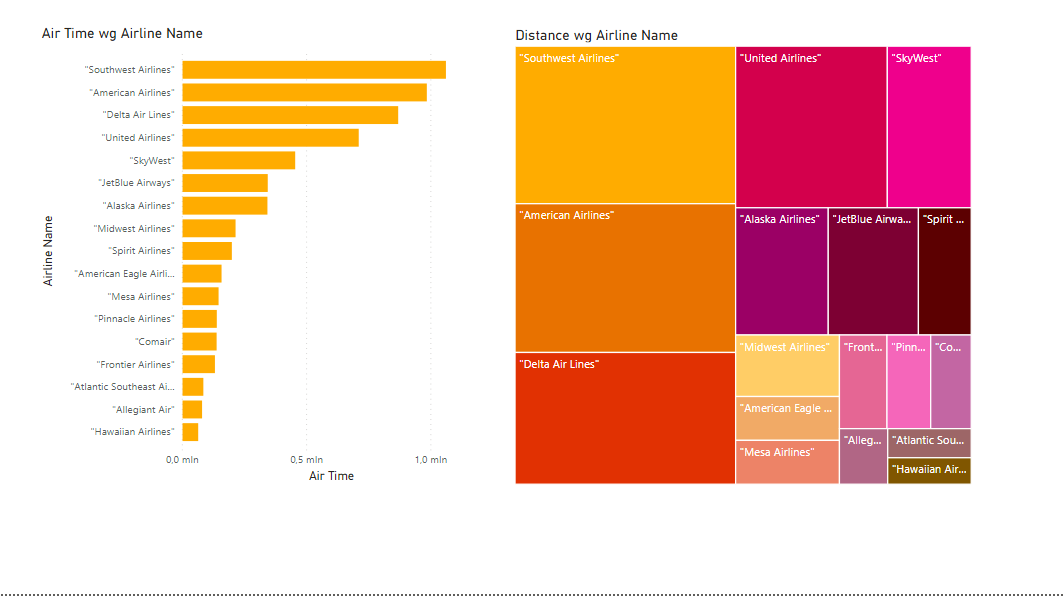

The page's visual inventory and layout, read from the dashboard file:
{"tool":"powerbi","page":{"name":"Strona 4","canvas":[1280,720],"ordinal":3},"visuals":[{"type":"clusteredBarChart","fields":{"Y":["Fact Flight.Air Time"],"Category":["Dim Airline.Airline Name"]},"box":[49.3,46.6,549.6,546.8],"z":0},{"type":"treemap","fields":{"Values":["Fact Flight.Distance"],"Group":["Dim Airline.Airline Name"]},"box":[609,47,550,547],"z":1}]}

Visuals, with their boxes in screenshot pixels (x1, y1, x2, y2), scaled from the page's 1280x720 canvas onto the 1064x597 screenshot:
clusteredBarChart - Fact Flight.Air Time x Dim Airline.Airline Name: rect(41, 39, 498, 492)
treemap - Fact Flight.Distance x Dim Airline.Airline Name: rect(506, 39, 963, 493)
